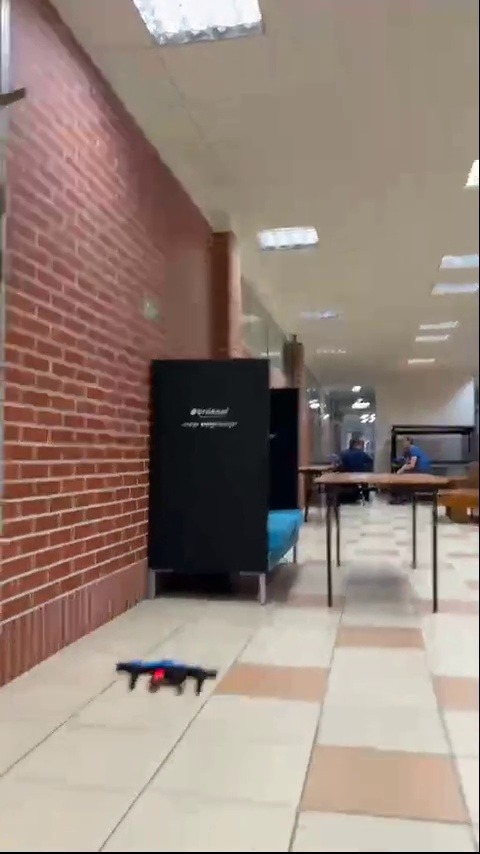drone: (121, 661, 217, 694)
no vest: (329, 427, 382, 481), (392, 432, 429, 474)
